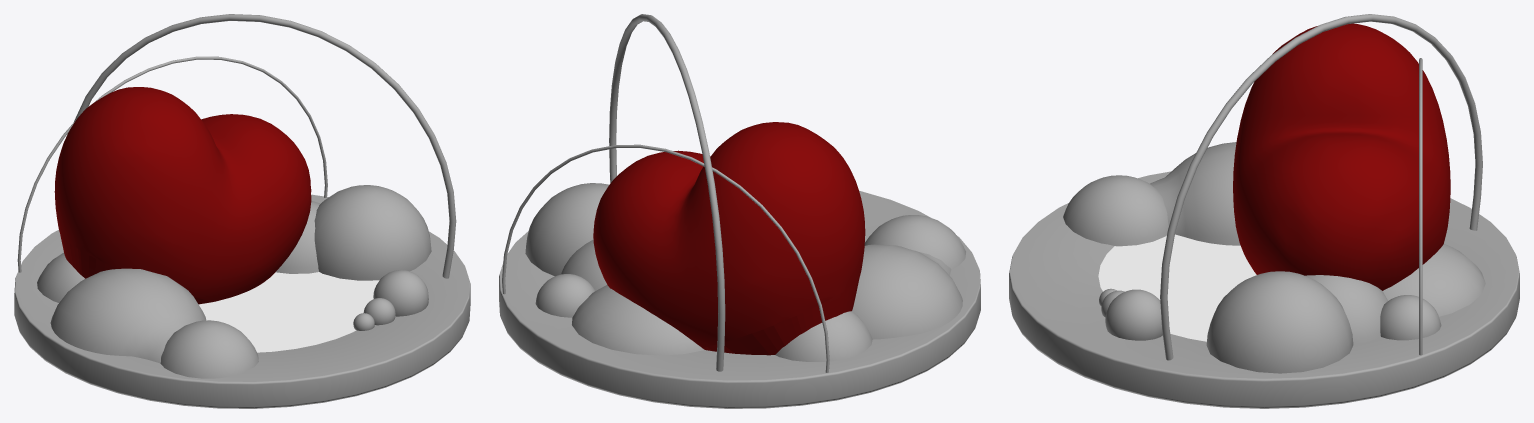
File: Island.fbx
3 views of the same model, side by side, from view 1: azimuth 30°, elevation 25°; view 2: azimuth 150°, elevation 25°; view 3: azimuth 270°, elevation 25° (orthographic). The views are drawn at different scales.
Visible parts, largest first — view 1: HeartStructure1, BaseScene:GroundBase, pSphere85, pDisc1, pSphere86, pSphere81, pTorus7, pSphere82, pTorus6, pSphere79, pSphere87, pSphere83; view 2: HeartStructure1, BaseScene:GroundBase, pSphere85, pSphere88, pSphere86, pTorus7, pSphere87, pSphere81, pTorus6, pSphere89, pSphere79; view 3: HeartStructure1, BaseScene:GroundBase, pSphere86, pDisc1, pTorus7, pSphere81, pSphere85, pSphere88, pSphere79, pSphere82, pSphere89, pTorus6.
Boxes of the visible parts, bbox=[...] form: HeartStructure1: bbox=[54, 87, 311, 304]; BaseScene:GroundBase: bbox=[14, 194, 470, 408]; pSphere85: bbox=[50, 268, 206, 363]; pDisc1: bbox=[198, 272, 379, 352]; pSphere86: bbox=[314, 185, 431, 280]; pSphere81: bbox=[160, 320, 258, 378]; pTorus7: bbox=[74, 14, 456, 278]; pSphere82: bbox=[373, 270, 428, 316]; pTorus6: bbox=[17, 56, 327, 272]; pSphere79: bbox=[276, 200, 320, 273]; pSphere87: bbox=[37, 252, 84, 302]; pSphere83: bbox=[363, 298, 395, 325]; HeartStructure1: bbox=[593, 122, 865, 355]; BaseScene:GroundBase: bbox=[499, 190, 980, 408]; pSphere85: bbox=[852, 244, 962, 339]; pSphere88: bbox=[572, 285, 704, 355]; pSphere86: bbox=[525, 183, 609, 276]; pTorus7: bbox=[609, 14, 725, 371]; pSphere87: bbox=[775, 311, 872, 361]; pSphere81: bbox=[864, 215, 965, 269]; pTorus6: bbox=[502, 144, 829, 372]; pSphere89: bbox=[535, 274, 594, 317]; pSphere79: bbox=[560, 239, 607, 290]; HeartStructure1: bbox=[1233, 23, 1450, 290]; BaseScene:GroundBase: bbox=[1009, 171, 1519, 408]; pSphere86: bbox=[1206, 271, 1353, 373]; pDisc1: bbox=[1098, 234, 1256, 341]; pTorus7: bbox=[1160, 14, 1482, 360]; pSphere81: bbox=[1063, 175, 1168, 246]; pSphere85: bbox=[1150, 142, 1240, 245]; pSphere88: bbox=[1383, 244, 1485, 316]; pSphere79: bbox=[1305, 275, 1387, 344]; pSphere82: bbox=[1105, 289, 1162, 340]; pSphere89: bbox=[1380, 295, 1441, 340]; pTorus6: bbox=[1419, 58, 1422, 355].
Bounding box in the file's own units: 16.93 × 11.01 × 16.93.
